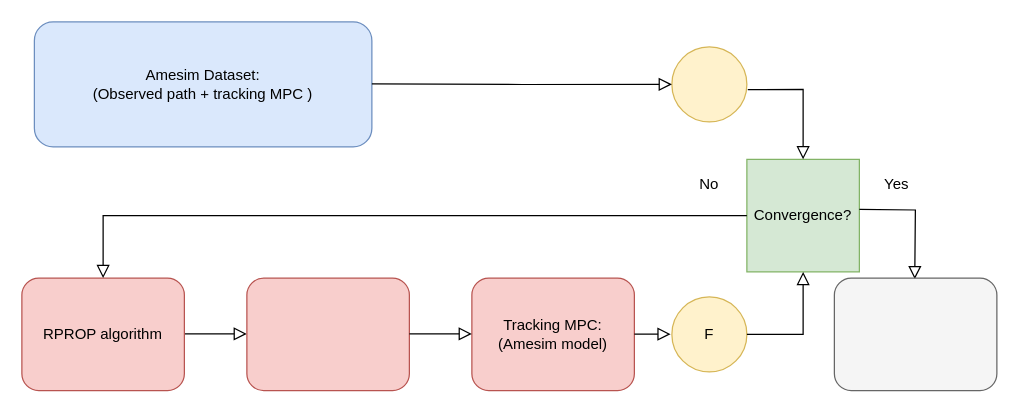
Some shapes in this 1019 by 413 pixel diagram are drawn without their labels. The box of each missing label's shape, as (x1, y1, x2, y2) in pixels:
F*: (671, 46, 747, 122)
Lane change planner: (Bicycle model): (246, 277, 409, 391)
Output weights: (833, 277, 997, 391)
